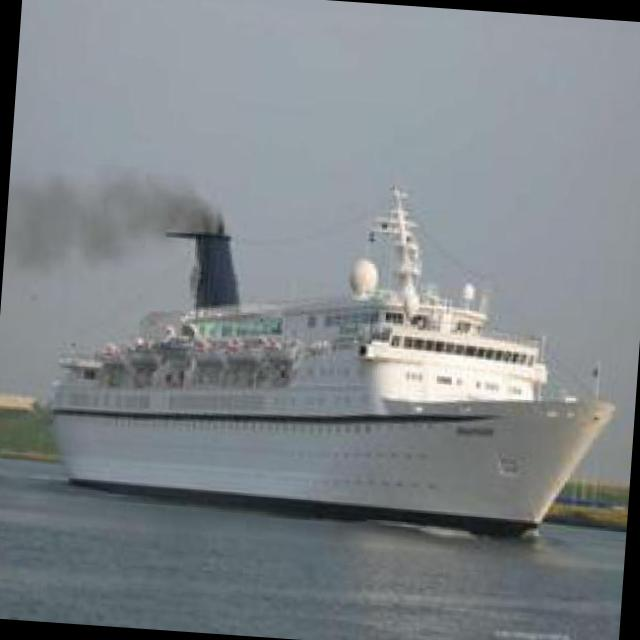boat: (26, 284, 594, 550)
